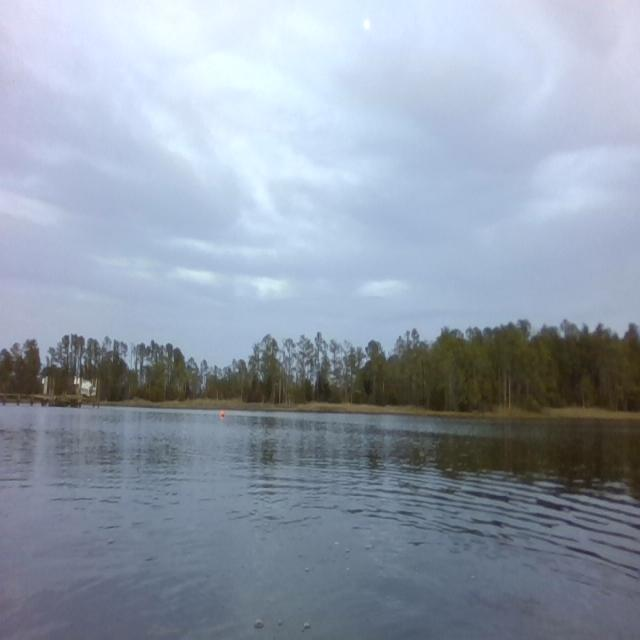Buoy: (219, 407, 226, 420)
